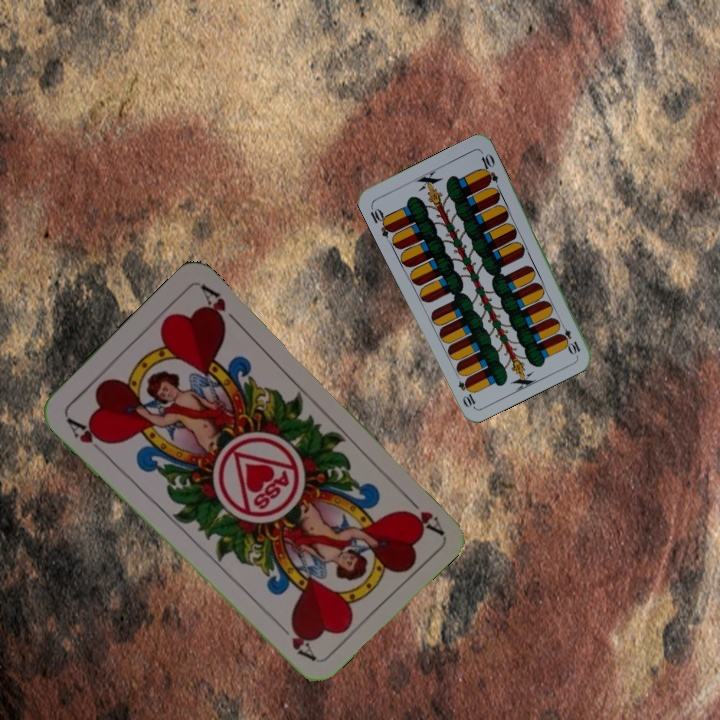E10: (366, 202, 396, 240), (555, 318, 583, 357)
HA: (61, 413, 111, 458), (399, 489, 445, 537)
